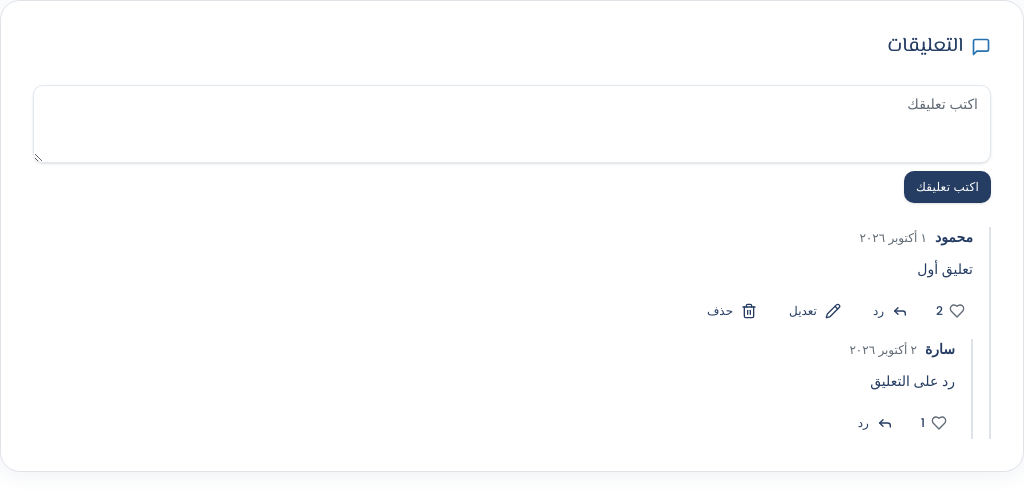
Scenario: the comments of a post of the blog › tells the member why a comment was refused
The width and height of the screenshot is (1024, 489).
Type "تعليق" into the text box labelled "اكتب تعليقك" at (512,124), box [33,85,991,163]
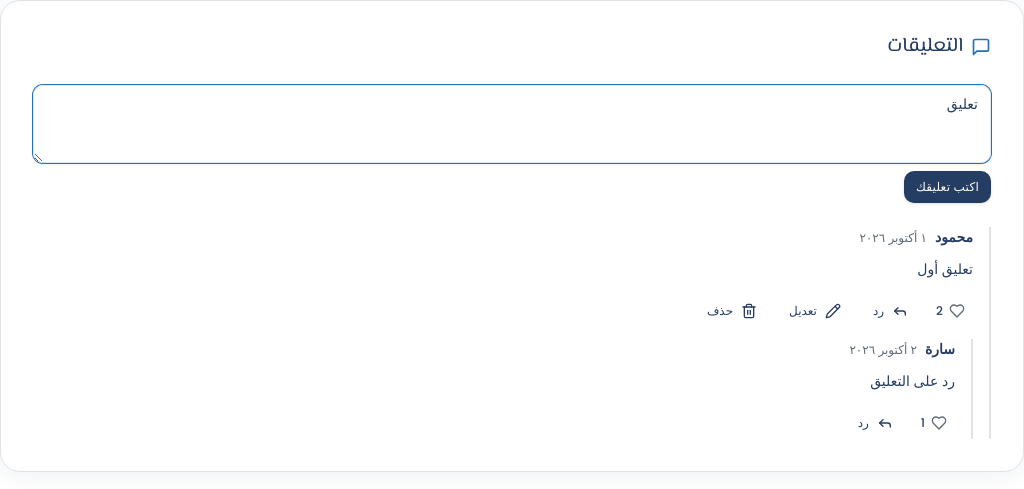
Click the button "اكتب تعليقك" at (947,187), box [904,171,991,203]
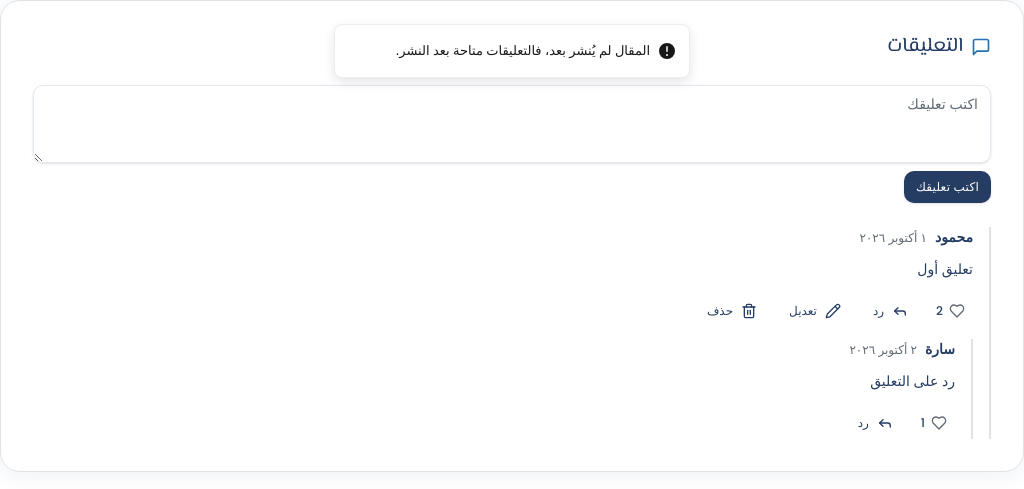
Now the text "المقال لم يُنشر بعد، فالتعليقات متاحة بعد النشر." is shown, box [396,41,650,60]
